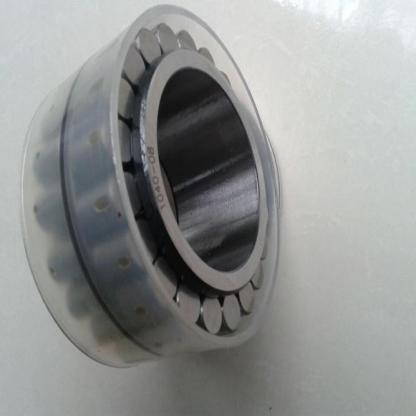FOD: (22, 5, 284, 369)
